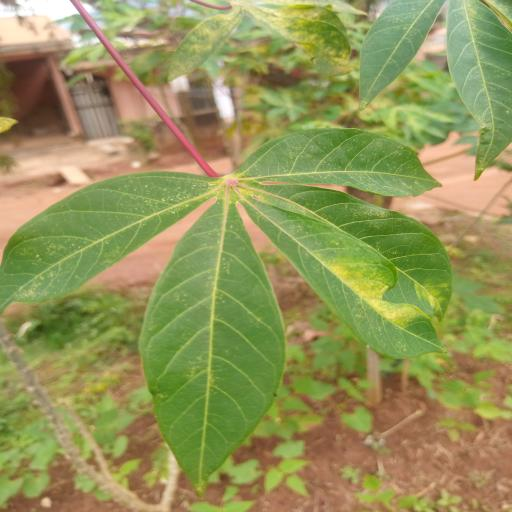Cassava_Mosaic: (4, 120, 490, 492)
